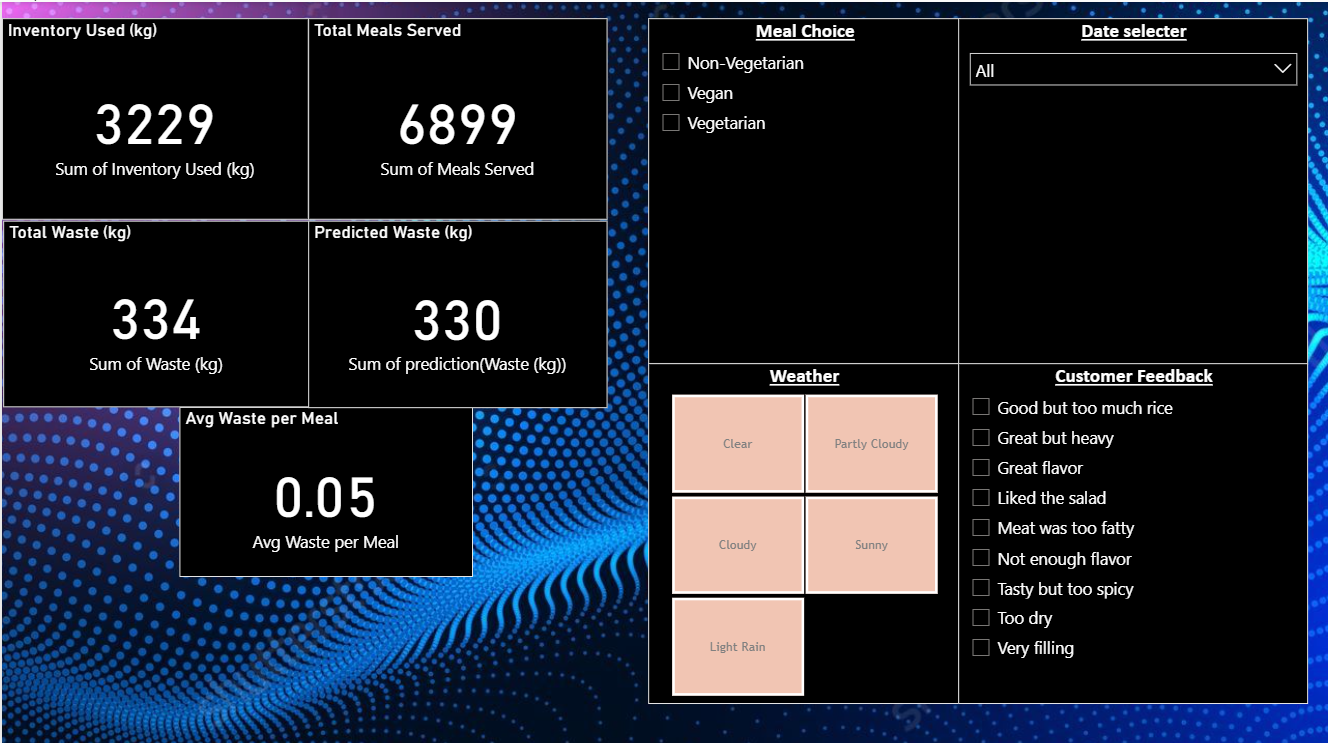

The dashboard page shown, as its layout file describes it:
{"tool":"powerbi","page":{"name":"KPI visualisations","canvas":[1280,720],"ordinal":3},"visuals":[{"type":"card","title":"Inventory Used (kg)","fields":{"Values":["Sum(Select Attributes (2).Inventory Used (kg))"]},"box":[0,15.9,295.8,194.8],"z":0},{"type":"card","title":"Total Meals Served","fields":{"Values":["Sum(Select Attributes (2).Meals Served)"]},"box":[295.8,15.9,288.6,194.8],"z":1000},{"type":"card","title":"Total Waste (kg)","fields":{"Values":["Sum(Select Attributes (2).Waste (kg))"]},"box":[1.4,210.6,295.8,180.3],"z":2000},{"type":"card","title":"Avg Waste per Meal","fields":{"Values":["Select Attributes (2).Avg Waste per Meal"]},"box":[171.9,391.2,283.1,164.4],"z":3000},{"type":"card","title":"Predicted Waste (kg)","fields":{"Values":["Sum(Select Attributes (2).prediction(Waste (kg)))"]},"box":[295.6,210.6,288.8,180.6],"z":4000},{"type":"slicer","title":"Meal Choice","fields":{"Values":["Select Attributes (2).Meal choice"]},"box":[623.3,15.9,301.5,333.3],"z":5000},{"type":"slicer","title":"Date selecter","fields":{"Values":["Select Attributes (2).Date","Select Attributes (2).Date.Variation.Date Hierarchy.Day"]},"box":[923.4,15.9,337.6,334.7],"z":6000},{"type":"slicer","title":"Weather","fields":{"Values":["Select Attributes (2).Weather"]},"box":[623.3,349.2,300,329.2],"z":7000},{"type":"slicer","title":"Customer Feedback","fields":{"Values":["Select Attributes (2).Customer Feedback"]},"box":[923.4,349.1,337.6,328.9],"z":8000}]}

Visuals, with their boxes in screenshot pixels (x1, y1, x2, y2), scaled from the page's 1280x720 canvas onto the 1328x743 screenshot:
"Inventory Used (kg)" card: bbox=[0, 16, 307, 217]
"Total Meals Served" card: bbox=[307, 16, 606, 217]
"Total Waste (kg)" card: bbox=[1, 217, 308, 403]
"Avg Waste per Meal" card: bbox=[178, 404, 472, 573]
"Predicted Waste (kg)" card: bbox=[307, 217, 606, 404]
"Meal Choice" slicer: bbox=[647, 16, 959, 360]
"Date selecter" slicer: bbox=[958, 16, 1308, 362]
"Weather" slicer: bbox=[647, 360, 958, 700]
"Customer Feedback" slicer: bbox=[958, 360, 1308, 700]
